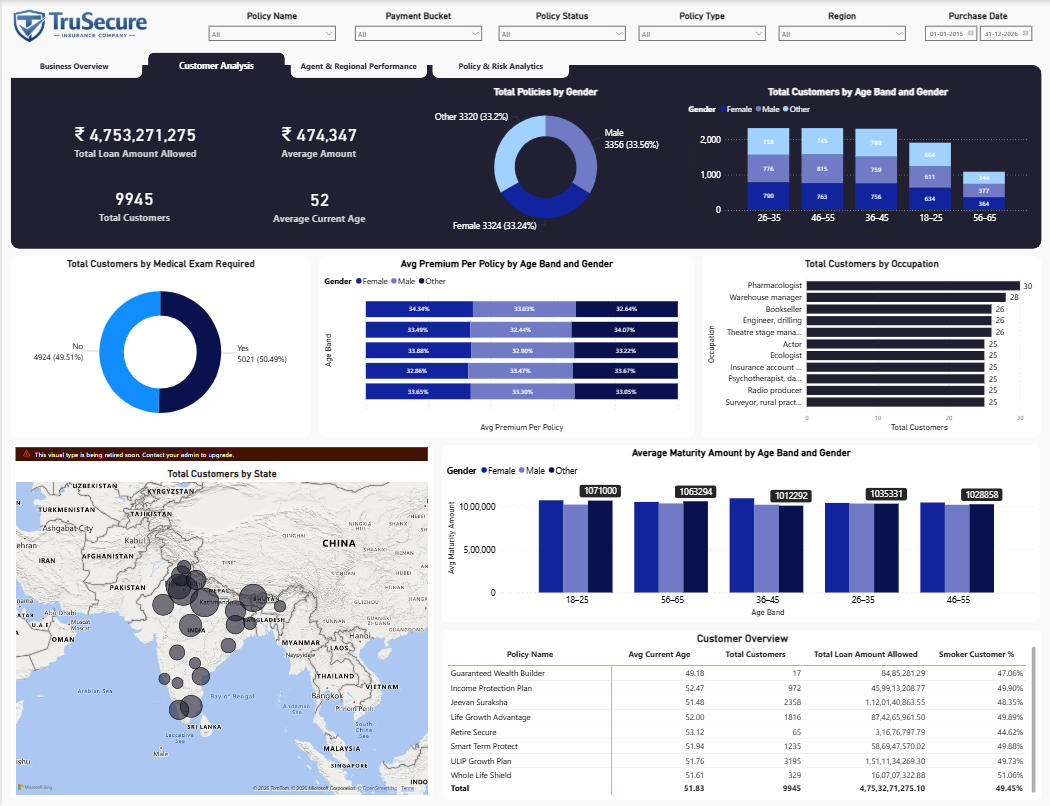

The dashboard page shown, as its layout file describes it:
{"tool":"powerbi","page":{"name":"Customer Analysis","canvas":[1940,1495],"ordinal":1},"visuals":[{"type":"shape","box":[15.6,120.3,1906,340],"z":0},{"type":"columnChart","title":"Total Customers by Age Band and Gender","fields":{"Category":["DM Customer_Detail_Table.Age Band"],"Y":["CountNonNull(DM Customer_Detail_Table.Customer ID)"],"Series":["DM Customer_Detail_Table.Gender"]},"box":[1264.4,159,637.8,278.3],"z":1000},{"type":"donutChart","fields":{"Y":["Measure.Total Policies"],"Category":["DM Customer_Detail_Table.Gender"]},"box":[758.6,159,494.6,278.3],"z":2000},{"type":"clusteredBarChart","fields":{"Category":["DM Customer_Detail_Table.Occupation"],"Y":["Measure.Total Customers"]},"box":[1294.6,473.9,626.6,334],"z":3000},{"type":"hundredPercentStackedBarChart","fields":{"Category":["DM Customer_Detail_Table.Age Band"],"Y":["Measure.Avg Premium Per Policy"],"Series":["DM Customer_Detail_Table.Gender"]},"box":[586.9,473.9,691.8,334],"z":4000},{"type":"map","fields":{"Category":["DM Insurance_Agent_Table.State"],"Size":["Measure.Total Customers"]},"box":[16.3,822.9,780.2,656.3],"z":5000},{"type":"donutChart","fields":{"Y":["Measure.Total Customers"],"Category":["DM Customer_Detail_Table.Medical Exam Required"]},"box":[15.9,473.9,553.5,334],"z":6000},{"type":"advanceCardE03760C5AB684758B56AA29F9E6C257B","fields":{"mainMeasure":["Measure.Total Customers"]},"box":[62,319.7,365.8,119.3],"z":7000},{"type":"advanceCardE03760C5AB684758B56AA29F9E6C257B","fields":{"mainMeasure":["Measure.Avg Current Age"]},"box":[404,321.3,365.8,119.3],"z":8000},{"type":"advanceCardE03760C5AB684758B56AA29F9E6C257B","fields":{"mainMeasure":["Measure.Avg Loan Amount"]},"box":[405.6,202,364.2,119.3],"z":9000},{"type":"advanceCardE03760C5AB684758B56AA29F9E6C257B","fields":{"mainMeasure":["Measure.Total Loan Amount Allowed"]},"box":[63.6,200.4,364.2,119.3],"z":10000},{"type":"slicer","title":"Policy Status","fields":{"Values":["DM Zonal_Manager.Zonal Manager Name","FCT Insurance_Policy_Table.Policy Status"]},"box":[908.9,18,255,80.1],"z":11000},{"type":"slicer","title":"Region","fields":{"Values":["DM Regional_Manager.Region"]},"box":[1427,18,255,80.1],"z":12000},{"type":"slicer","title":"Purchase Date","fields":{"Values":["Calendar.Date"]},"box":[1693.1,17.8,222,70],"z":13000},{"type":"slicer","title":"Policy Type","fields":{"Values":["FCT Insurance_Policy_Table.Tenure Band"]},"box":[1167.1,18,255,80.1],"z":14000},{"type":"pageNavigator","box":[6.4,97,1045,47.7],"z":15000},{"type":"image","box":[0,0,288,88],"z":16000},{"type":"pivotTable","title":"Customer Overview","fields":{"Rows":["DM Policy_Protection_Plan.Policy Name"],"Values":["Measure.Avg Current Age","Measure.Total Customers","Measure.Total Loan Amount Allowed","Measure.Smoker Customer %"]},"box":[814.8,1164.2,1105.3,314.9],"z":17000},{"type":"clusteredColumnChart","title":"Average Maturity Amount by Age Band and Gender","fields":{"Category":["DM Customer_Detail_Table.Age Band"],"Y":["Measure.Avg Maturity Amount"],"Series":["DM Customer_Detail_Table.Gender"]},"box":[814.5,823,1105.3,326.8],"z":18000},{"type":"slicer","title":"Policy Name","fields":{"Values":["DM Policy_Protection_Plan.Policy Name"]},"box":[372.7,18,255,80.1],"z":19000},{"type":"slicer","title":"Payment Bucket","fields":{"Values":["FCT Insurance_Policy_Table.Payment Bucket"]},"box":[642.4,18,255,80.1],"z":20000}]}

Visuals, with their boxes in screenshot pixels (x1, y1, x2, y2), scaled from the page's 1940x1495 canvas onto the 1050x806 screenshot:
shape: <bbox>8, 65, 1040, 248</bbox>
"Total Customers by Age Band and Gender" columnChart: <bbox>684, 86, 1030, 236</bbox>
donutChart - Measure.Total Policies x DM Customer_Detail_Table.Gender: <bbox>411, 86, 678, 236</bbox>
clusteredBarChart - DM Customer_Detail_Table.Occupation x Measure.Total Customers: <bbox>701, 255, 1040, 436</bbox>
hundredPercentStackedBarChart - DM Customer_Detail_Table.Age Band x Measure.Avg Premium Per Policy: <bbox>318, 255, 692, 436</bbox>
map - DM Insurance_Agent_Table.State x Measure.Total Customers: <bbox>9, 444, 431, 797</bbox>
donutChart - Measure.Total Customers x DM Customer_Detail_Table.Medical Exam Required: <bbox>9, 255, 308, 436</bbox>
advanceCardE03760C5AB684758B56AA29F9E6C257B - Measure.Total Customers: <bbox>34, 172, 232, 237</bbox>
advanceCardE03760C5AB684758B56AA29F9E6C257B - Measure.Avg Current Age: <bbox>219, 173, 417, 238</bbox>
advanceCardE03760C5AB684758B56AA29F9E6C257B - Measure.Avg Loan Amount: <bbox>220, 109, 417, 173</bbox>
advanceCardE03760C5AB684758B56AA29F9E6C257B - Measure.Total Loan Amount Allowed: <bbox>34, 108, 232, 172</bbox>
"Policy Status" slicer: <bbox>492, 10, 630, 53</bbox>
"Region" slicer: <bbox>772, 10, 910, 53</bbox>
"Purchase Date" slicer: <bbox>916, 10, 1037, 47</bbox>
"Policy Type" slicer: <bbox>632, 10, 770, 53</bbox>
pageNavigator: <bbox>3, 52, 569, 78</bbox>
image: <bbox>0, 0, 156, 47</bbox>
"Customer Overview" pivotTable: <bbox>441, 628, 1039, 797</bbox>
"Average Maturity Amount by Age Band and Gender" clusteredColumnChart: <bbox>441, 444, 1039, 620</bbox>
"Policy Name" slicer: <bbox>202, 10, 340, 53</bbox>
"Payment Bucket" slicer: <bbox>348, 10, 486, 53</bbox>
